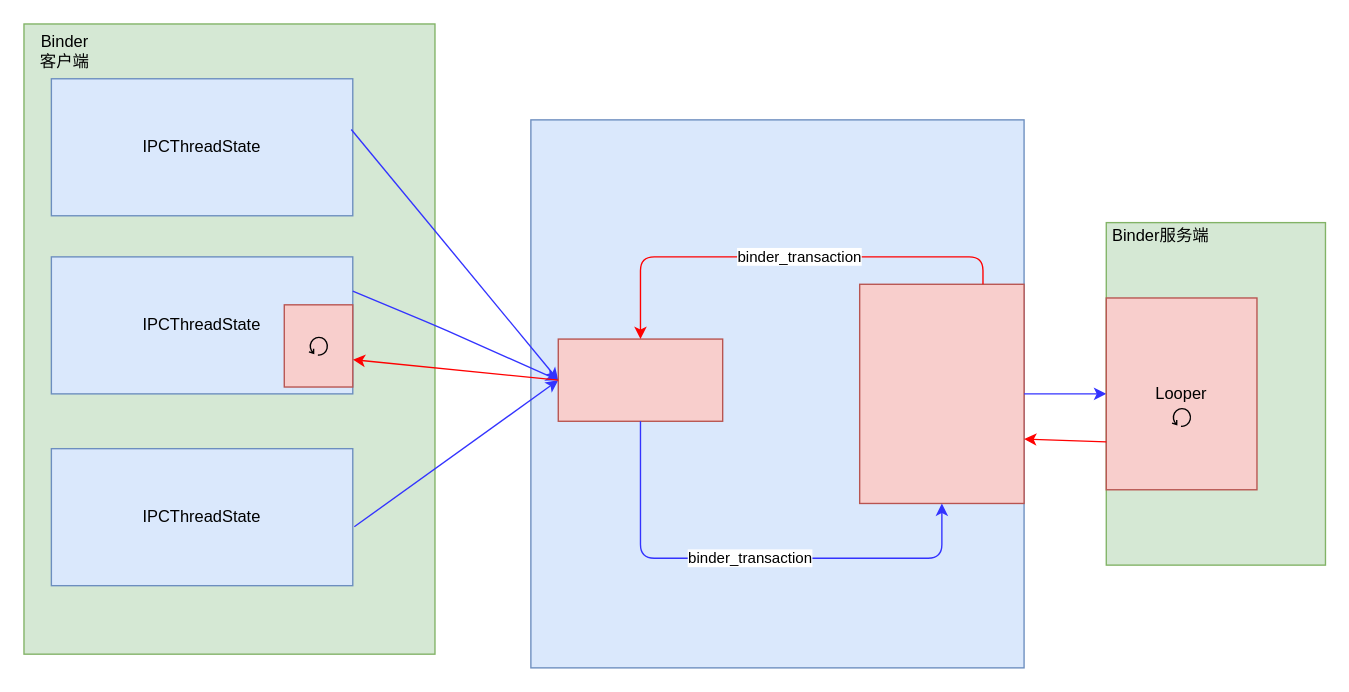
This 1349x692 diagram has some shape labels left out. Here are the shapes that lost their labels. From the top down, the centre of each, then its label:
At point (640, 379): "binder_proc1".
At point (941, 393): "binder_proc2".
